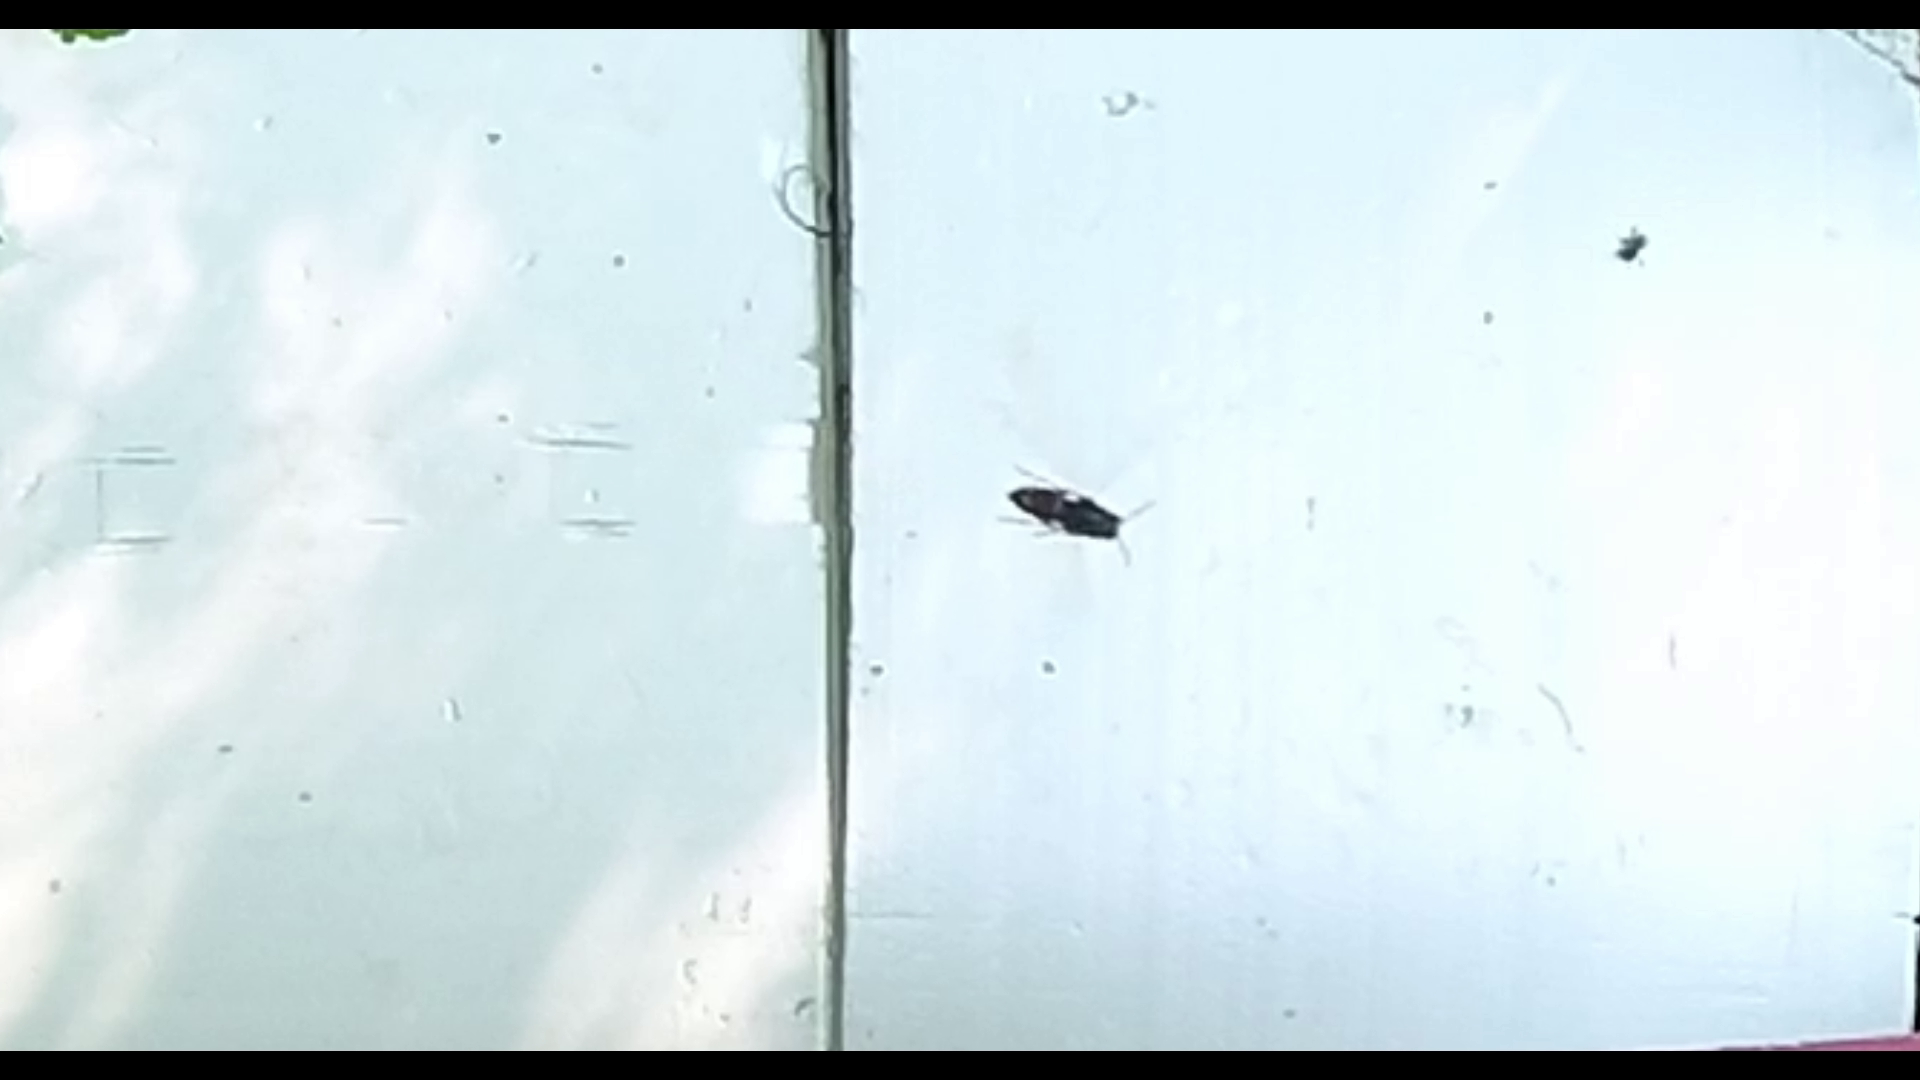Asian_hornets: (972, 442, 1166, 576)
